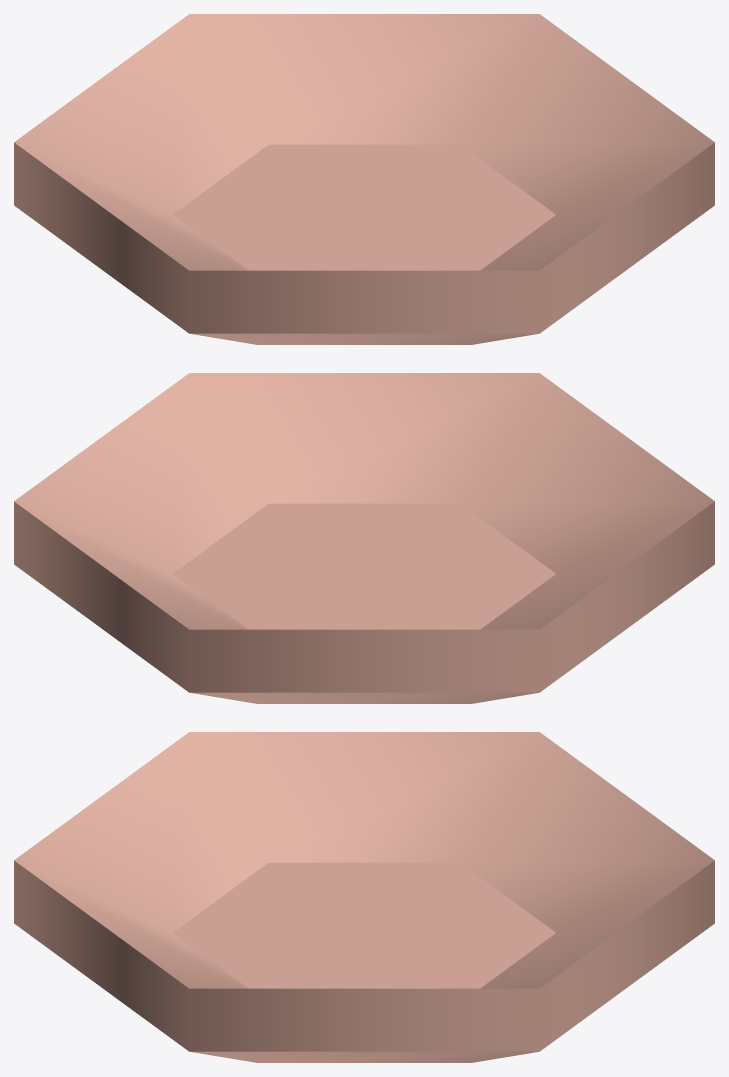
Rendered from plate_003.glb.
The picture shows the model from 3 angles, top to bottom: view 1: azimuth 30°, elevation 25°; view 2: azimuth 150°, elevation 25°; view 3: azimuth 270°, elevation 25°; orthographic projection.
Parts seen in each view (by area): view 1: plate_003; view 2: plate_003; view 3: plate_003.
Boxes of the visible parts, box(x1,y1,x2,y2) form: plate_003: box(14, 14, 714, 344); plate_003: box(14, 373, 714, 703); plate_003: box(14, 732, 714, 1062).
Size of the model in its own units: 0.3053 by 0.0687 by 0.3525.
1 material, 1 textured.
